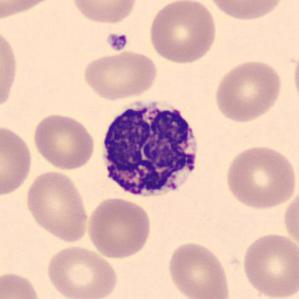Basophil: (96, 92, 206, 206)
Platelets: (105, 31, 130, 53)
RBC: (222, 142, 298, 211), (23, 168, 90, 244), (212, 58, 284, 124), (146, 0, 219, 65), (85, 195, 154, 261), (80, 49, 160, 102), (44, 244, 119, 299), (31, 111, 97, 172), (165, 239, 232, 299), (240, 230, 297, 299), (0, 123, 34, 198), (68, 0, 139, 26), (204, 0, 286, 22), (0, 24, 20, 114), (0, 269, 43, 299), (0, 0, 58, 21), (281, 188, 299, 250), (291, 46, 299, 110)
